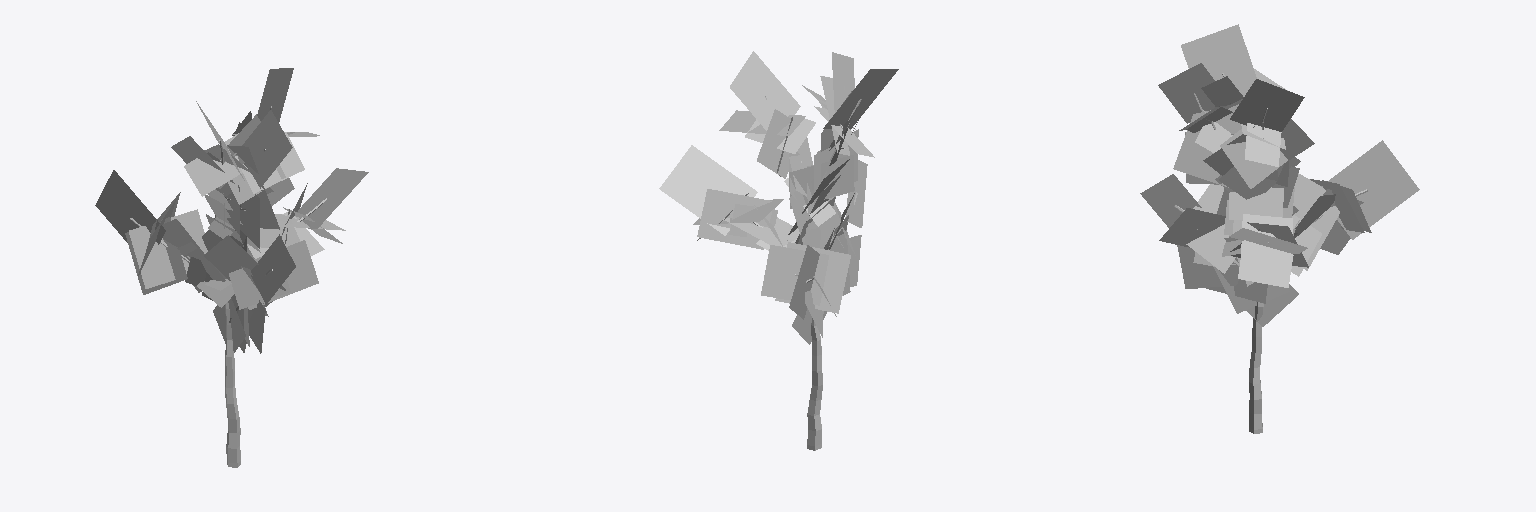
Rendered from tree2.obj.
3 renders of one model, left to right at view 1: azimuth 30°, elevation 25°; view 2: azimuth 150°, elevation 25°; view 3: azimuth 270°, elevation 25°, orthographic.
Bounding box in the file's own units: 9.3 × 18.01 × 11.9.